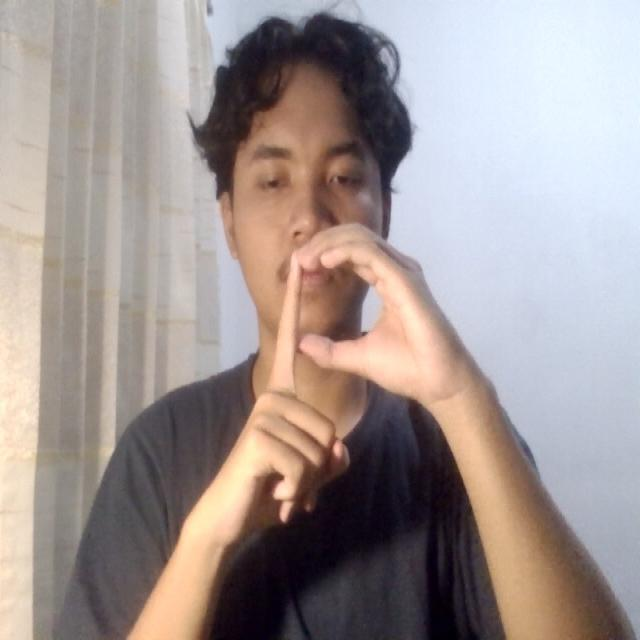D: (203, 216, 447, 551)
